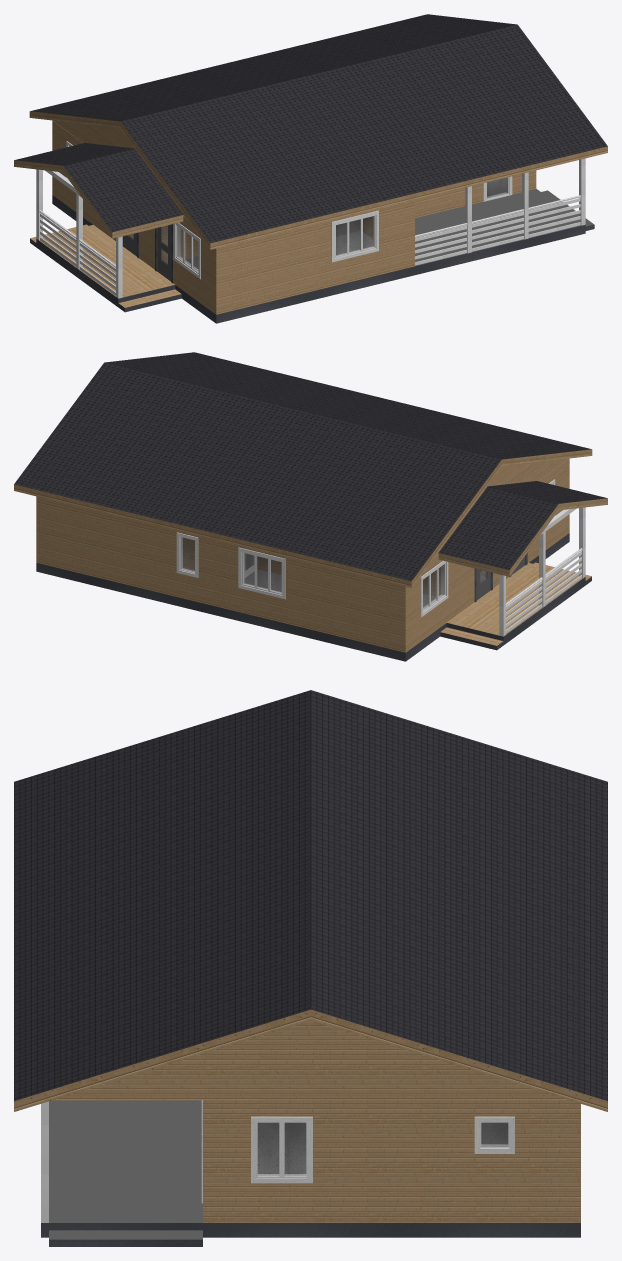
File: building_shop.glb
3 views of the same model, one above another, from view 1: azimuth 30°, elevation 25°; view 2: azimuth 150°, elevation 25°; view 3: azimuth 270°, elevation 25° (orthographic). The views are drawn at different scales.
Visible parts, largest first — view 1: 3DSMeshMatrix (×27); view 2: 3DSMeshMatrix (×17); view 3: 3DSMeshMatrix (×11).
Boxes of the visible parts, <box> form: 3DSMeshMatrix (×27): <box>14,14,607,323</box>; 3DSMeshMatrix (×17): <box>14,352,607,661</box>; 3DSMeshMatrix (×11): <box>14,690,607,1246</box>.
Bounding box in the file's own units: 16 × 4.9 × 11.
7 materials, 5 textured.
